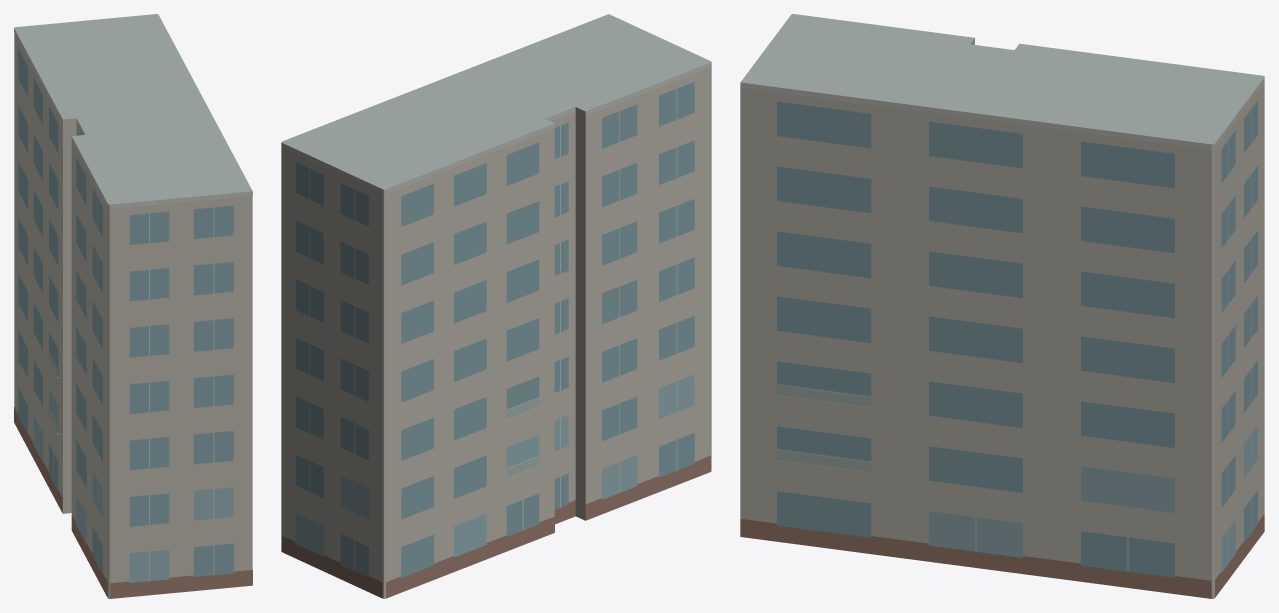
The model's file is survey-upis-32535893.glb.
The picture shows the model from 3 angles, left to right: view 1: azimuth 30°, elevation 25°; view 2: azimuth 150°, elevation 25°; view 3: azimuth 270°, elevation 25°; orthographic projection. The views are drawn at different scales.
Parts seen in each view (by area): view 1: survey-upis-32535893.tmp; view 2: survey-upis-32535893.tmp; view 3: survey-upis-32535893.tmp.
Part boxes in pixels (box(x1,y1,x2,y2)): survey-upis-32535893.tmp: box(14, 14, 252, 598); survey-upis-32535893.tmp: box(281, 14, 711, 598); survey-upis-32535893.tmp: box(740, 14, 1264, 598).
Bounding box in the file's own units: 13.24 × 21.5 × 22.48.
